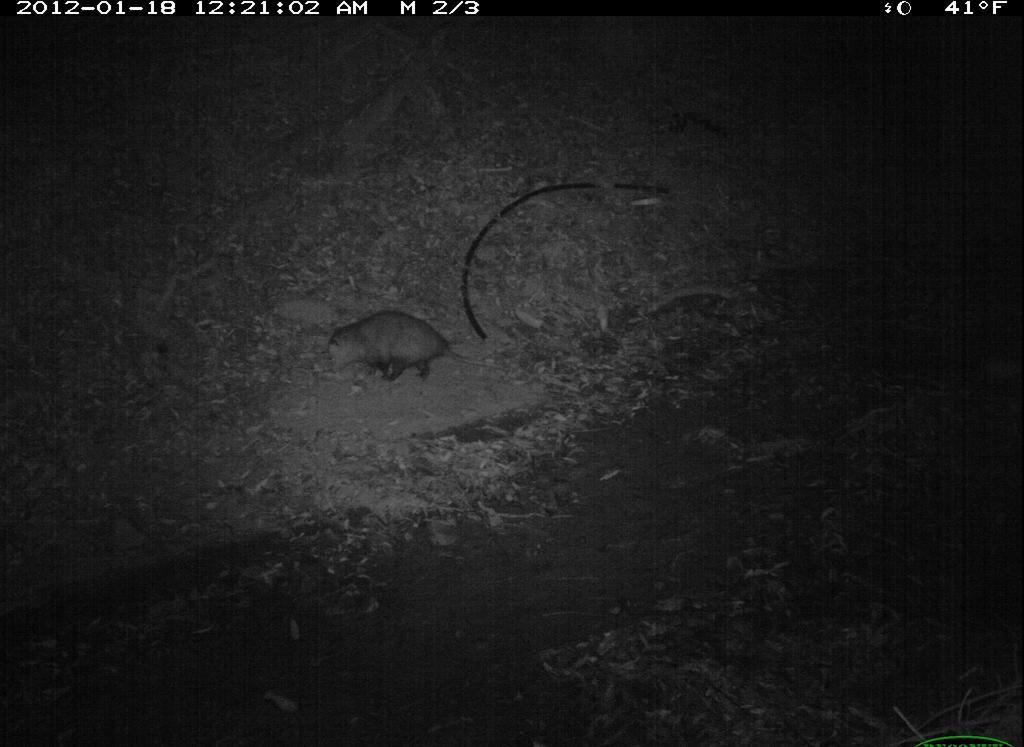opossum: (314, 305, 514, 396)
